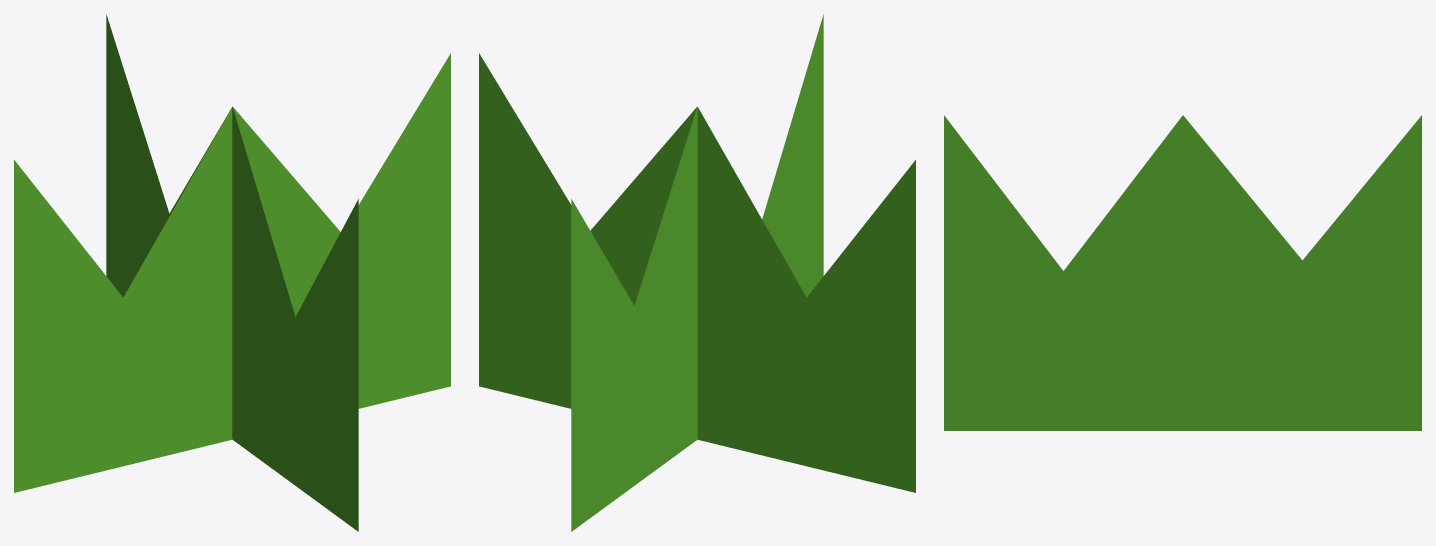
Rendered from grass.fbx.
3 views of the same model, side by side, from view 1: azimuth 30°, elevation 25°; view 2: azimuth 150°, elevation 25°; view 3: azimuth 270°, elevation 25° (orthographic). The views are drawn at different scales.
Parts seen in each view (by area): view 1: pPlane6; view 2: pPlane6; view 3: pPlane6.
Boxes of the visible parts, x1,y1,x2,y2 form: pPlane6: [14, 14, 450, 531]; pPlane6: [479, 14, 915, 531]; pPlane6: [944, 115, 1421, 430].
Bounding box in the file's own units: 1 × 0.7295 × 1.
